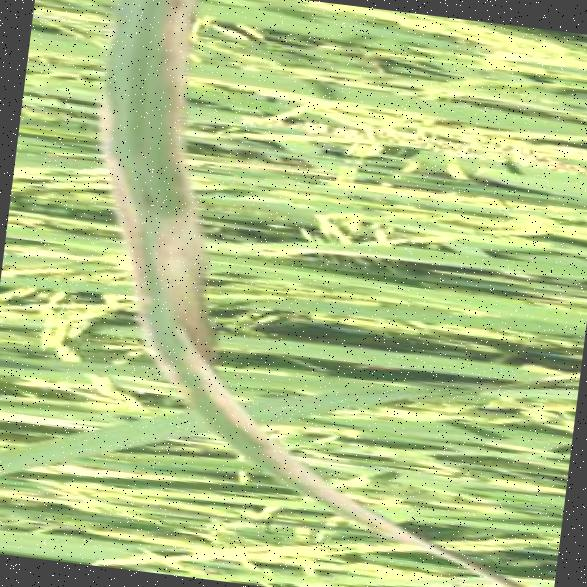Bacteria_Leaf_Blight: (71, 0, 220, 319)
